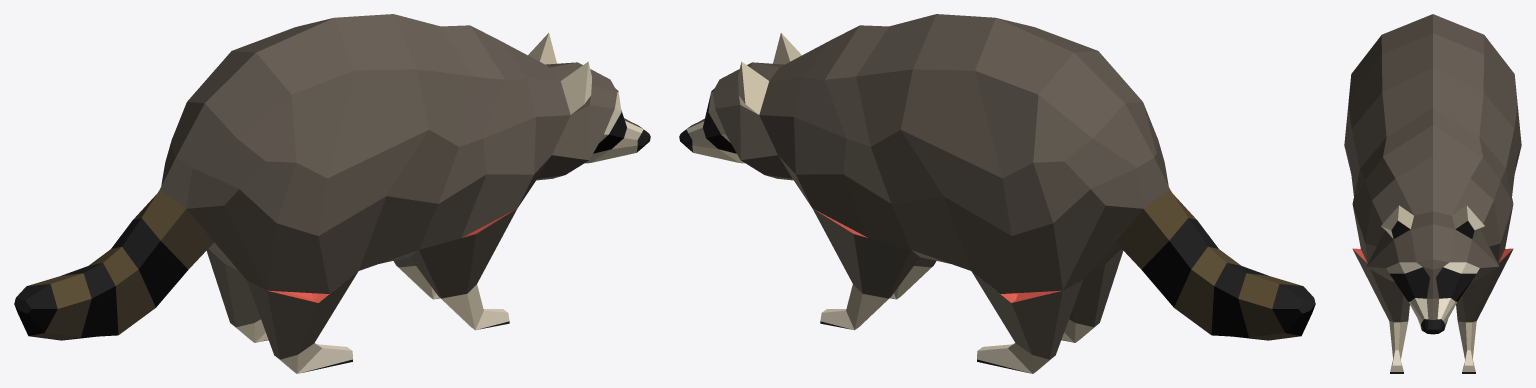
Rendered from racoon.glb.
3 views of the same model, side by side, from view 1: azimuth 30°, elevation 25°; view 2: azimuth 150°, elevation 25°; view 3: azimuth 270°, elevation 25° (orthographic). The views are drawn at different scales.
Parts seen in each view (by area): view 1: Thorso, Tail, Head, BR, FR, BL, FL; view 2: Thorso, Tail, Head, BL, FL, BR, FR; view 3: Thorso, Head, FL, FR.
Boxes of the visible parts, x1,y1,x2,y2 form: Thorso: [160, 14, 570, 293]; Tail: [14, 190, 214, 340]; Head: [528, 33, 650, 180]; BR: [247, 271, 358, 373]; FR: [410, 208, 517, 330]; BL: [206, 249, 268, 342]; FL: [393, 257, 439, 299]; Thorso: [759, 14, 1169, 293]; Tail: [1115, 190, 1315, 340]; Head: [679, 33, 801, 180]; BL: [971, 271, 1082, 373]; FL: [812, 208, 919, 330]; BR: [1061, 249, 1123, 342]; FR: [890, 257, 936, 299]; Thorso: [1344, 14, 1521, 263]; Head: [1366, 205, 1499, 334]; FL: [1456, 248, 1513, 373]; FR: [1352, 248, 1409, 373].
Size of the model in its own units: 5.62 by 2.77 by 1.6.
